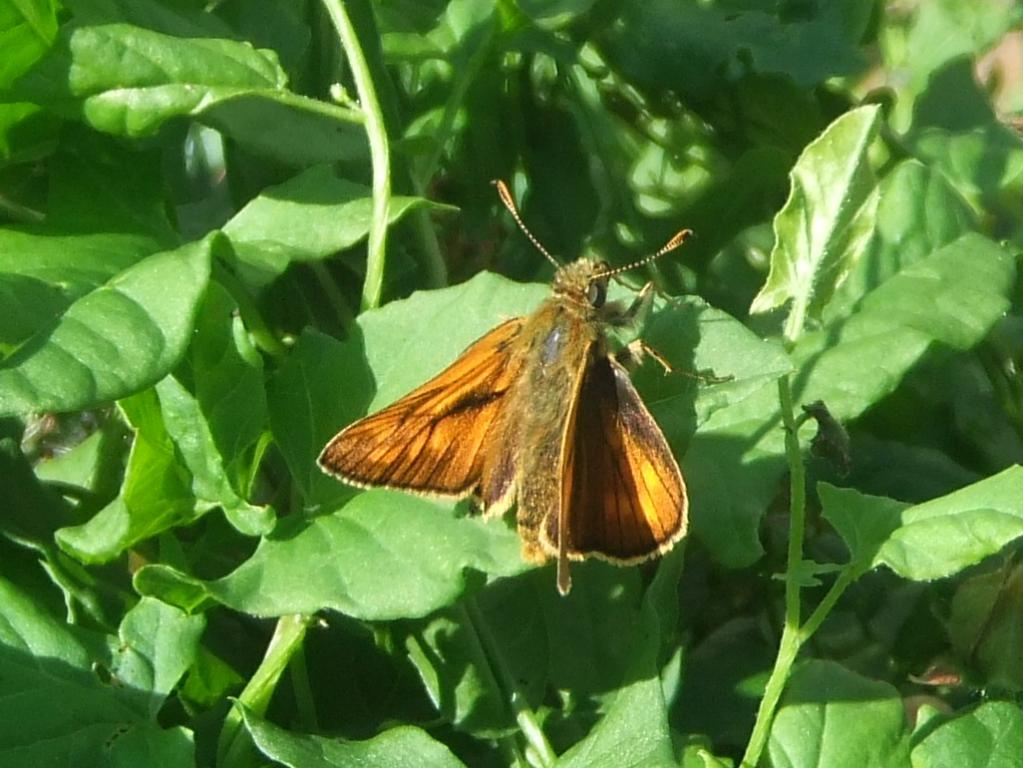Butterfly: (316, 200, 729, 602)
